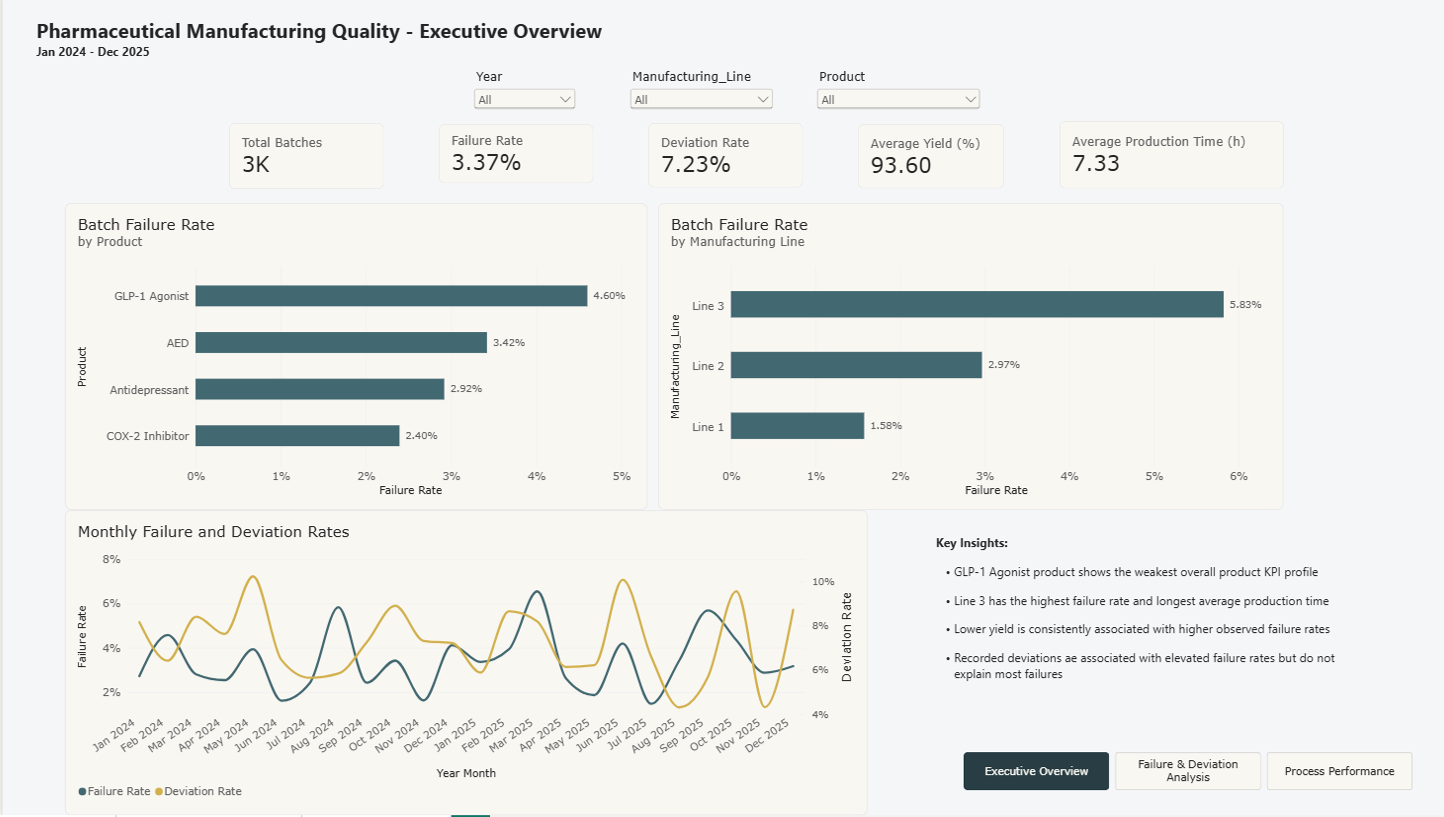

This screenshot's page, from the dashboard's own definition file:
{"tool":"powerbi","page":{"name":"Executive Overview","canvas":[1920,1080],"ordinal":0},"visuals":[{"type":"cardVisual","fields":{"Data":["pharma_manufacturing_cleaned csv.Total Batches"]},"box":[301.9,168,206.2,87.2],"z":0},{"type":"cardVisual","fields":{"Data":["pharma_manufacturing_cleaned csv.Failure Rate"]},"box":[580.9,170.1,206.2,78.7],"z":1000},{"type":"cardVisual","fields":{"Data":["pharma_manufacturing_cleaned csv.Deviation Rate"]},"box":[860,168,206.2,85],"z":2000},{"type":"cardVisual","fields":{"Data":["pharma_manufacturing_cleaned csv.Average Yield (%)"]},"box":[1139,170.1,195.6,85],"z":3000},{"type":"cardVisual","fields":{"Data":["pharma_manufacturing_cleaned csv.Average Production Time (h)"]},"box":[1407.4,165.8,299.8,89.3],"z":4000},{"type":"clusteredBarChart","title":"Batch Failure Rate ","fields":{"Category":["pharma_manufacturing_cleaned csv.Product"],"Y":["pharma_manufacturing_cleaned csv.Failure Rate"]},"box":[82.9,274.3,776,403.9],"z":5000},{"type":"clusteredBarChart","title":"Batch Failure Rate","fields":{"Category":["pharma_manufacturing_cleaned csv.Manufacturing_Line"],"Y":["pharma_manufacturing_cleaned csv.Failure Rate"]},"box":[873.8,274.3,833.4,403.9],"z":6000},{"type":"lineChart","title":"Monthly Failure and Deviation Rates","fields":{"Category":["Date.Year Month"],"Y":["pharma_manufacturing_cleaned csv.Failure Rate"],"Y2":["pharma_manufacturing_cleaned csv.Deviation Rate"]},"box":[82.9,678.2,1069.4,401.8],"z":7000},{"type":"slicer","fields":{"Values":["Date.Year"]},"box":[622.9,97.8,144.6,68],"z":8000},{"type":"slicer","fields":{"Values":["pharma_manufacturing_cleaned csv.Manufacturing_Line"]},"box":[831.3,97.8,199.8,70.2],"z":9000},{"type":"slicer","fields":{"Values":["pharma_manufacturing_cleaned csv.Product"]},"box":[1080,97.8,227.5,70.2],"z":10000},{"type":"textbox","box":[44.6,27.6,786.6,70.2],"z":11000},{"type":"pageNavigator","box":[1279.8,997.1,600,50],"z":11002},{"type":"textbox","box":[1243.7,710.1,554.9,280.6],"z":11003}]}

Visuals, with their boxes in screenshot pixels (x1, y1, x2, y2), scaled from the page's 1920x1080 canvas onto the 1444x817 screenshot:
cardVisual - pharma_manufacturing_cleaned csv.Total Batches: [left=227, top=127, right=382, bottom=193]
cardVisual - pharma_manufacturing_cleaned csv.Failure Rate: [left=437, top=129, right=592, bottom=188]
cardVisual - pharma_manufacturing_cleaned csv.Deviation Rate: [left=647, top=127, right=802, bottom=191]
cardVisual - pharma_manufacturing_cleaned csv.Average Yield (%): [left=857, top=129, right=1004, bottom=193]
cardVisual - pharma_manufacturing_cleaned csv.Average Production Time (h): [left=1058, top=125, right=1284, bottom=193]
"Batch Failure Rate " clusteredBarChart: [left=62, top=208, right=646, bottom=513]
"Batch Failure Rate" clusteredBarChart: [left=657, top=208, right=1284, bottom=513]
"Monthly Failure and Deviation Rates" lineChart: [left=62, top=513, right=867, bottom=816]
slicer - Date.Year: [left=468, top=74, right=577, bottom=125]
slicer - pharma_manufacturing_cleaned csv.Manufacturing_Line: [left=625, top=74, right=775, bottom=127]
slicer - pharma_manufacturing_cleaned csv.Product: [left=812, top=74, right=983, bottom=127]
textbox: [left=34, top=21, right=625, bottom=74]
pageNavigator: [left=963, top=754, right=1414, bottom=792]
textbox: [left=935, top=537, right=1353, bottom=749]
